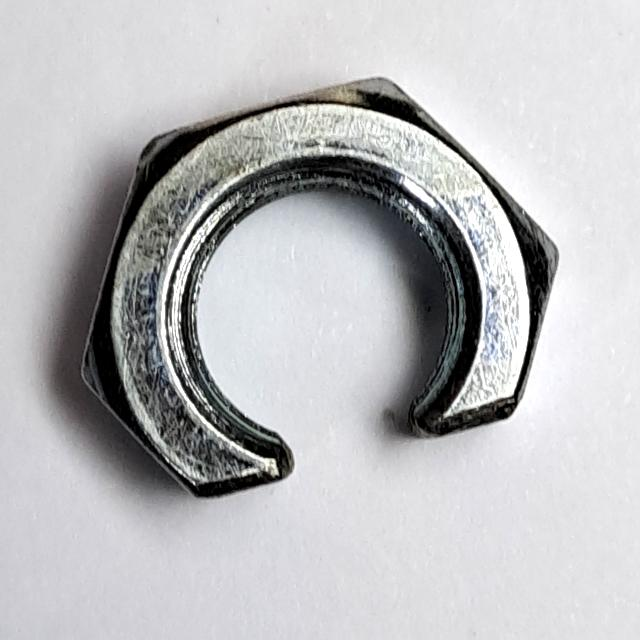Fracture: (66, 68, 575, 519)
